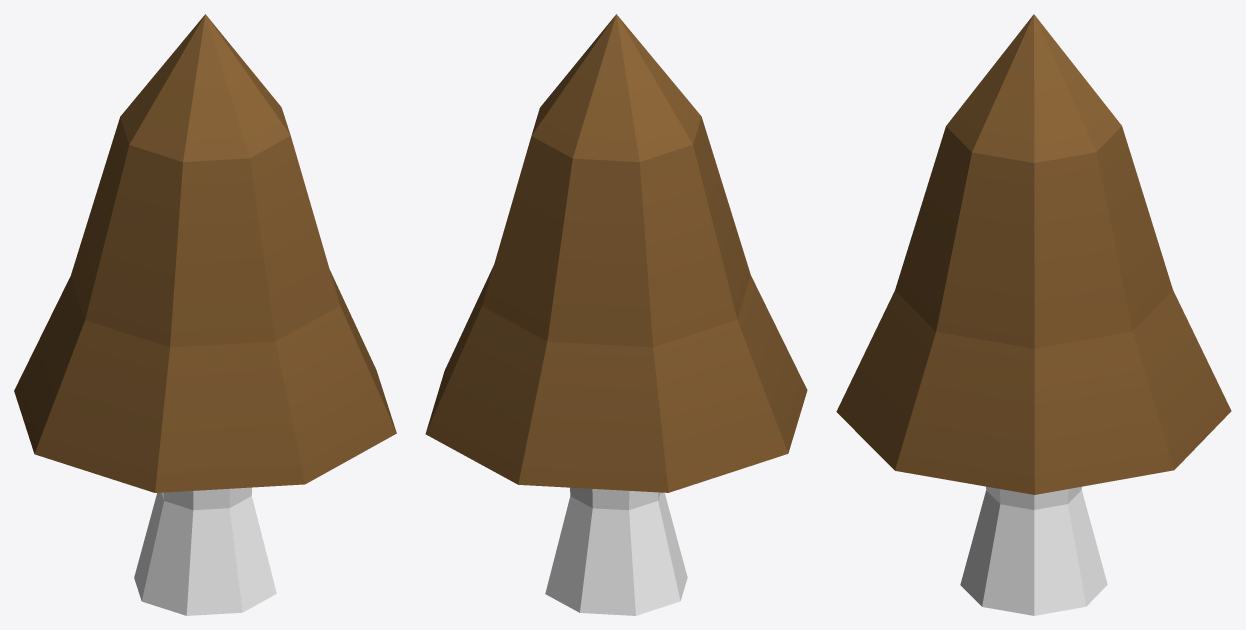
Rendered from Mushroom_03.fbx.
The picture shows the model from 3 angles, left to right: view 1: azimuth 30°, elevation 25°; view 2: azimuth 150°, elevation 25°; view 3: azimuth 270°, elevation 25°; orthographic projection.
Parts seen in each view (by area): view 1: Mushroom_03; view 2: Mushroom_03; view 3: Mushroom_03.
Boxes of the visible parts, x1=… form: Mushroom_03: x1=14, y1=14, x2=396, y2=615; Mushroom_03: x1=425, y1=14, x2=807, y2=615; Mushroom_03: x1=836, y1=14, x2=1231, y2=615.
Size of the model in its own units: 24.65 by 39.28 by 24.65.
